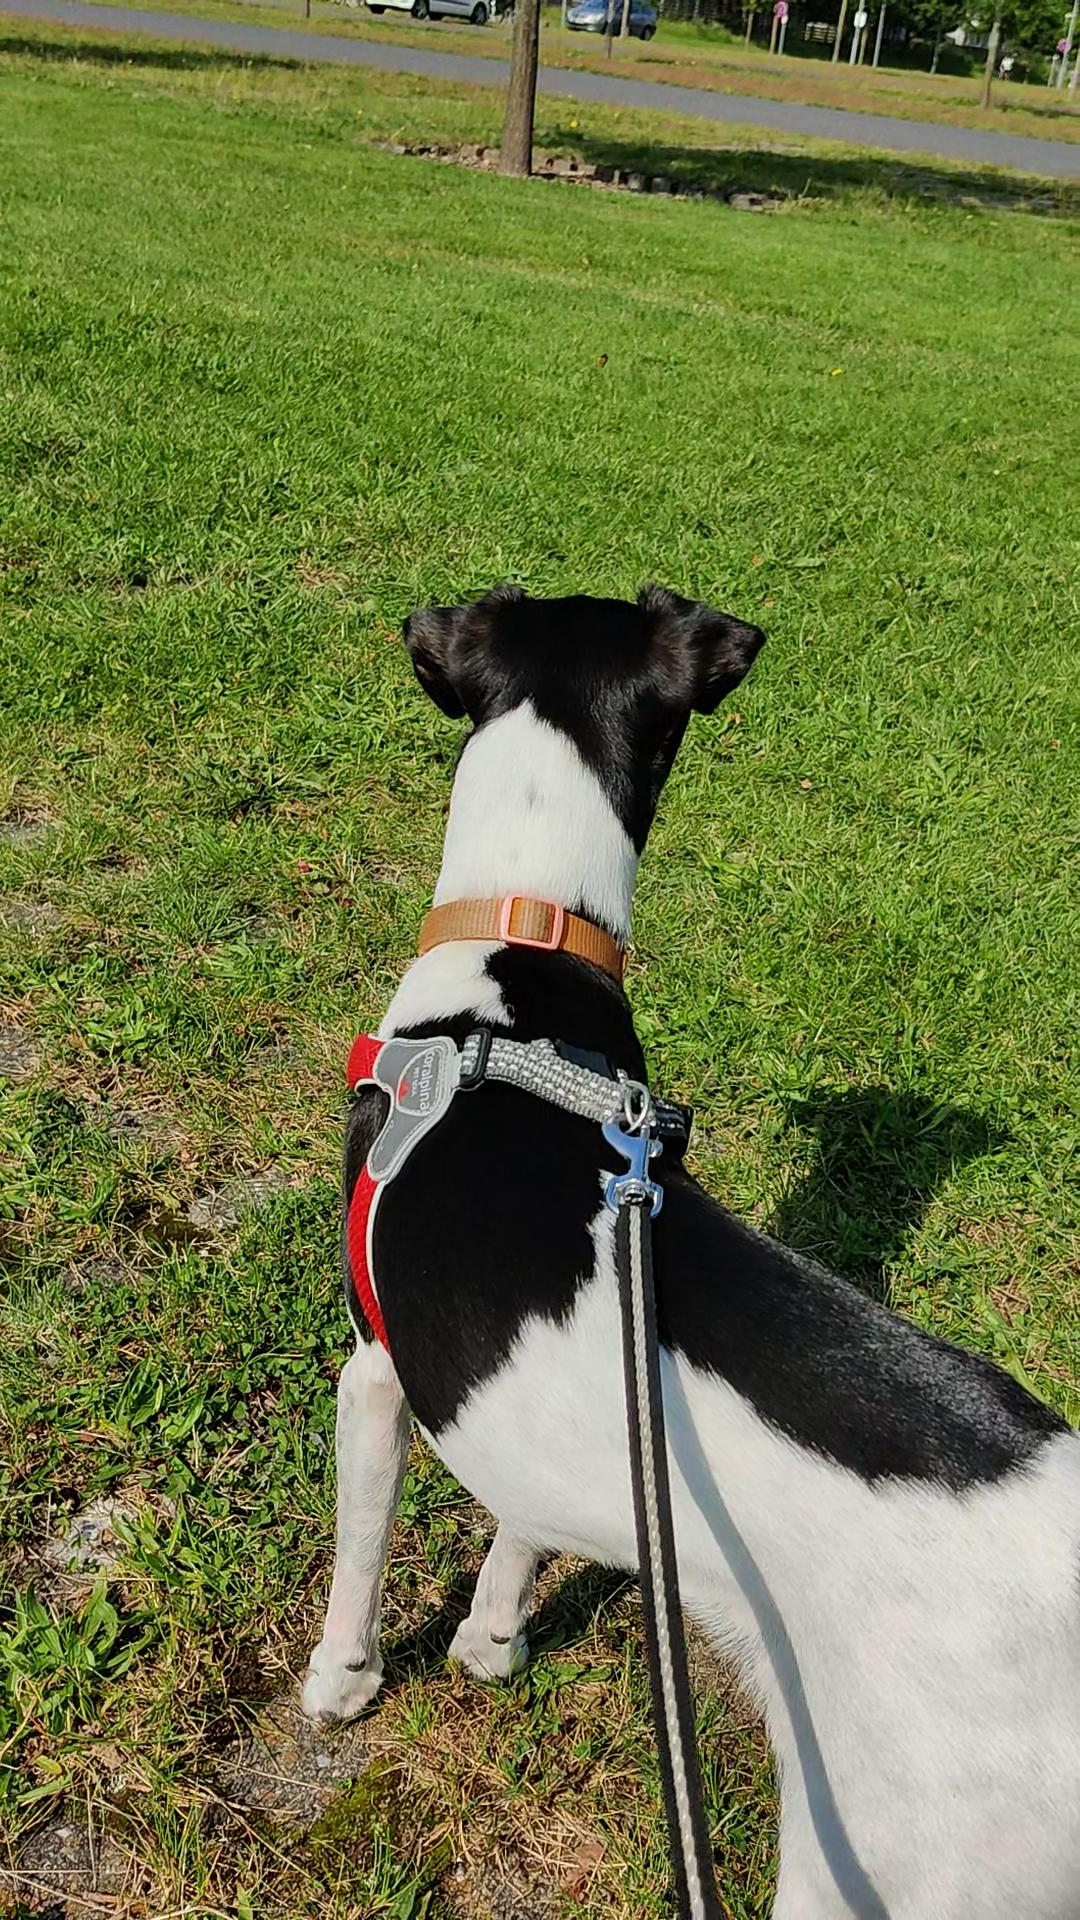Dog: (216, 564, 1079, 1919)
